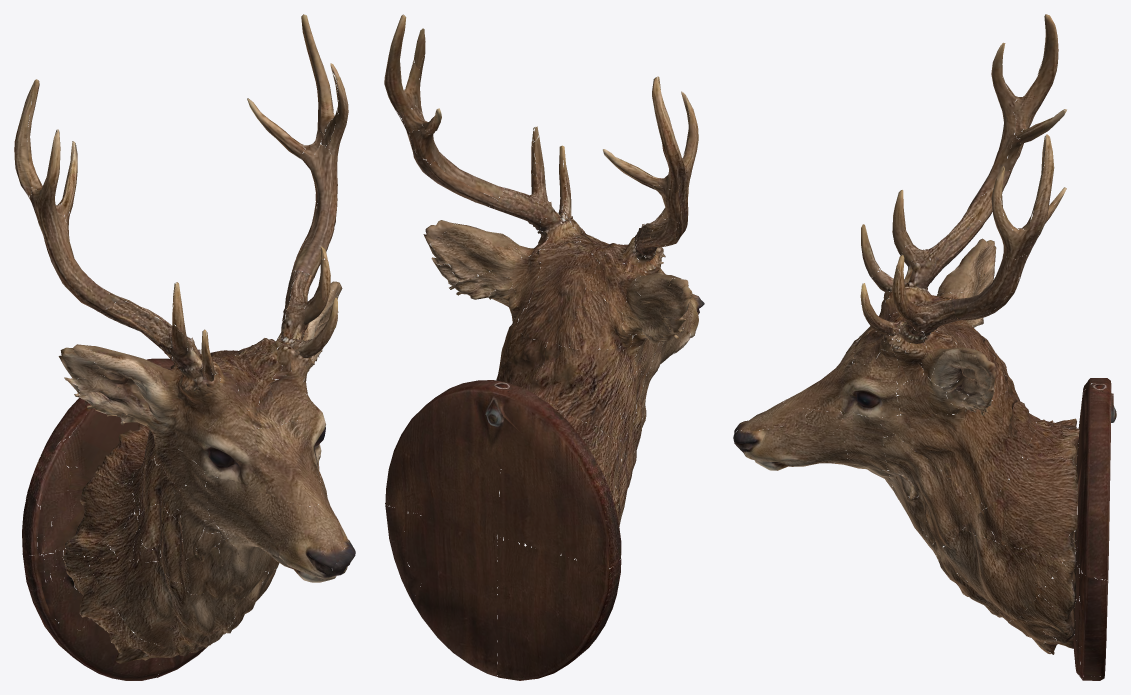
The model's file is deer_prop.glb.
3 renders of one model, left to right at view 1: azimuth 30°, elevation 25°; view 2: azimuth 150°, elevation 25°; view 3: azimuth 270°, elevation 25°, orthographic. The views are drawn at different scales.
Visible parts, largest first — view 1: prop_deer; view 2: prop_deer; view 3: prop_deer.
Part boxes in pixels (box(x1,y1,x2,y2)): prop_deer: box(14, 14, 355, 680); prop_deer: box(384, 14, 704, 680); prop_deer: box(733, 14, 1116, 680).
Bounding box in the file's own units: 0.4947 × 0.9799 × 0.5705.
Materials: 1 (1 with a texture image).
